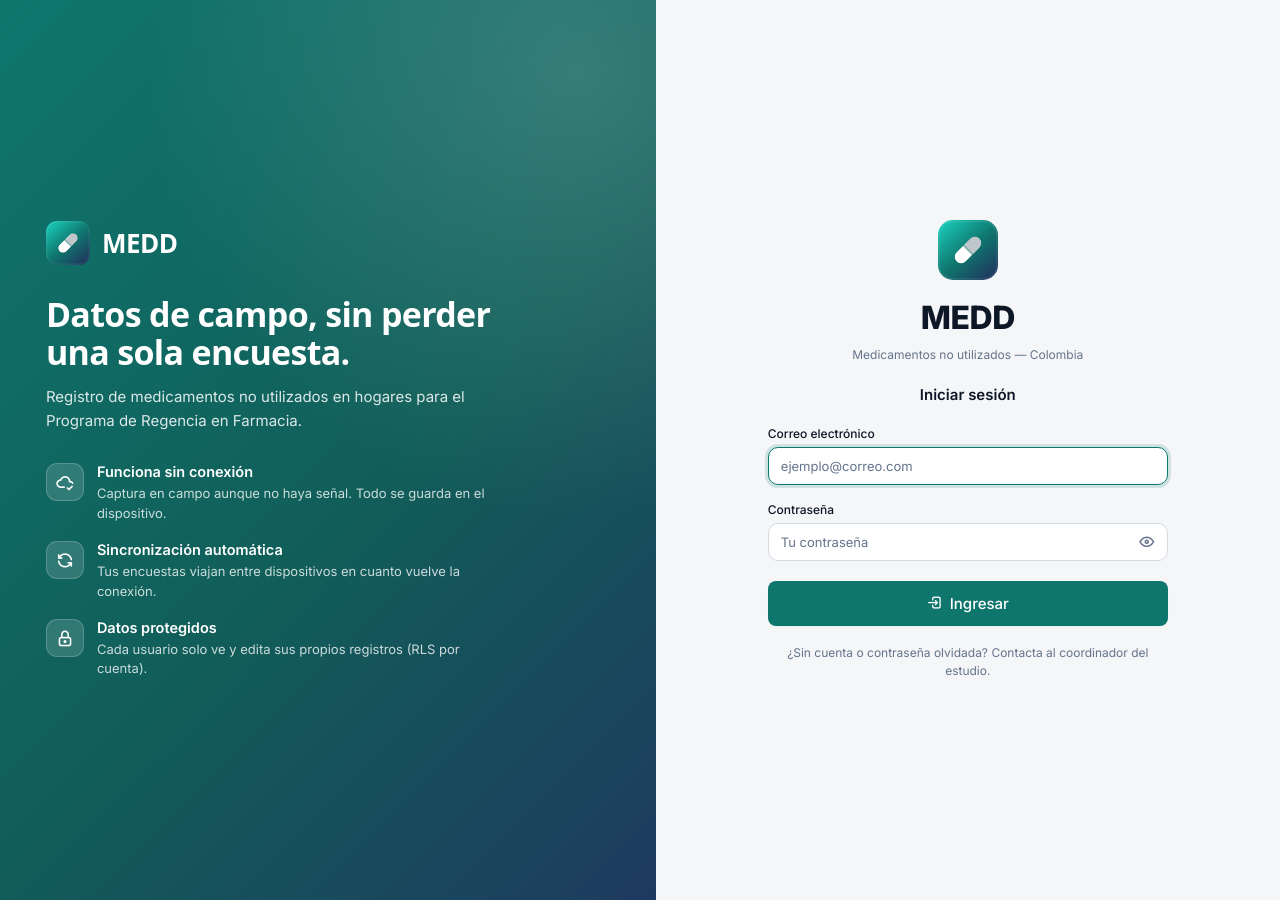
Test: AuthPage error handling › shows API error when Supabase returns an error object
The width and height of the screenshot is (1280, 900).
Type "test@example.com" into the field labelled "Correo electrónico" at x=968, y=466, box x1=768 y1=447 x2=1168 y2=485
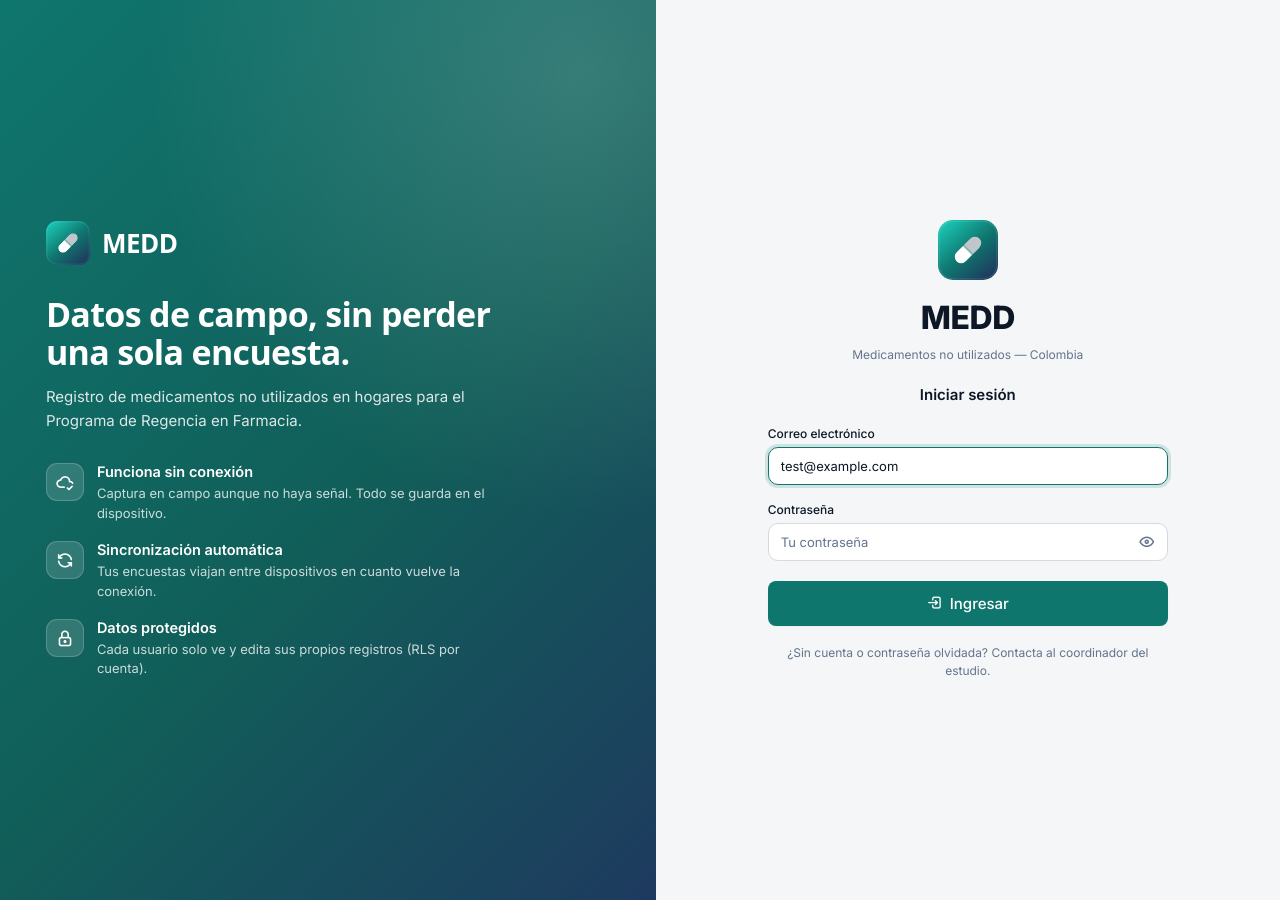
Type "wrongpassword" into the password field labelled "Contraseña" at x=968, y=542, box x1=768 y1=523 x2=1168 y2=561
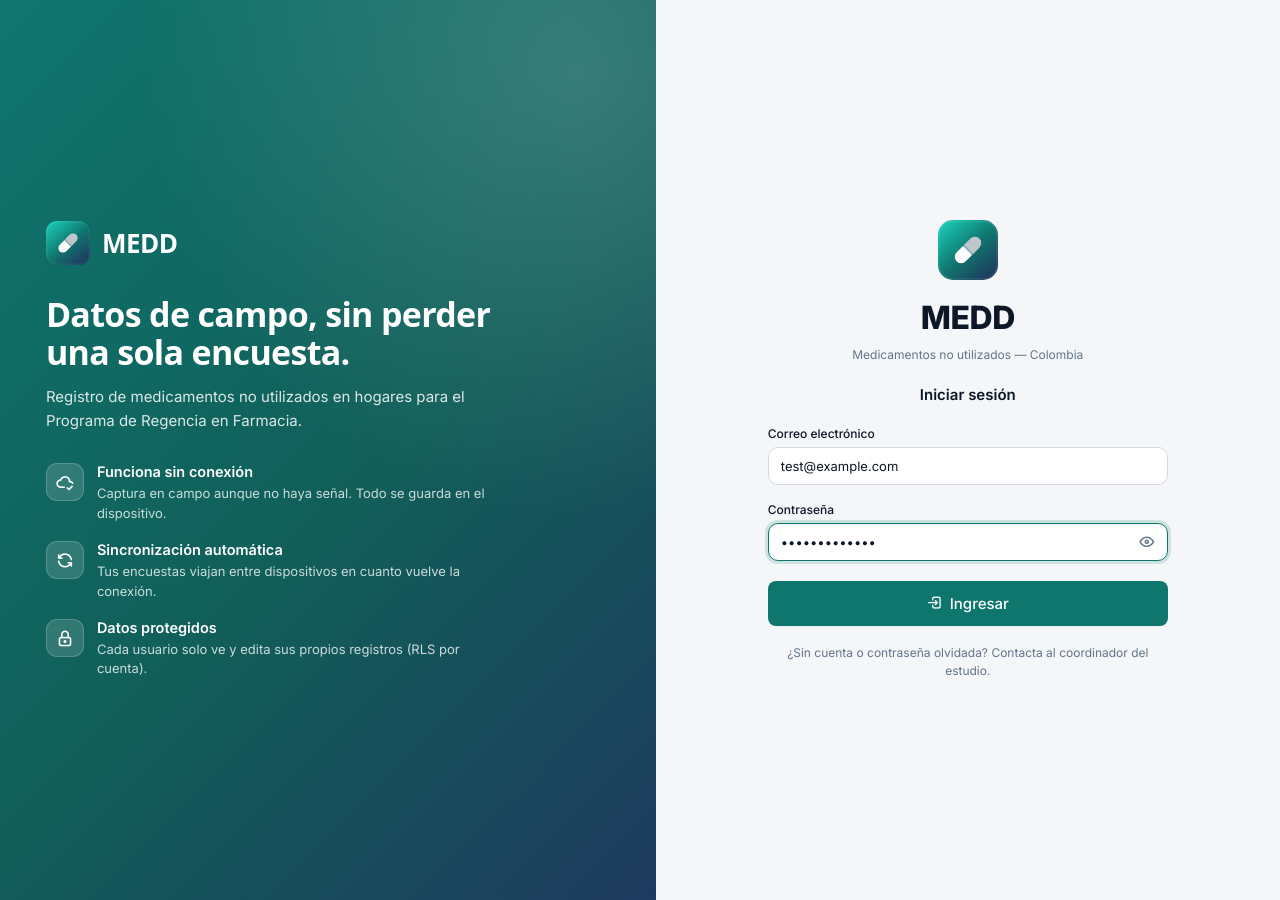
Click the button "Ingresar" at x=968, y=603, box x1=768 y1=581 x2=1168 y2=626
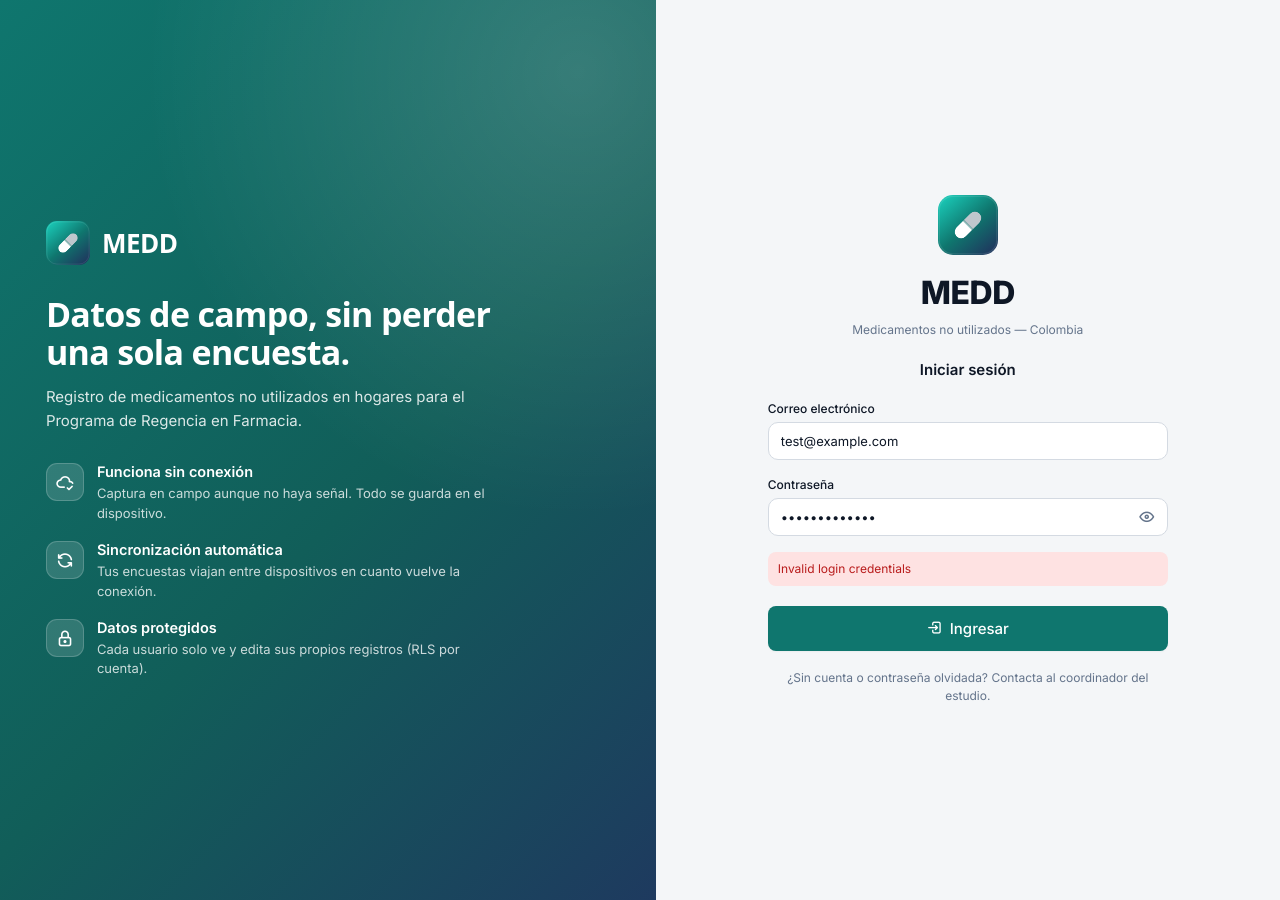
Check: the button "Ingresar" is enabled, box x1=768 y1=606 x2=1168 y2=651
Check: the text "Invalid login credentials" is shown, box x1=768 y1=552 x2=1168 y2=586
